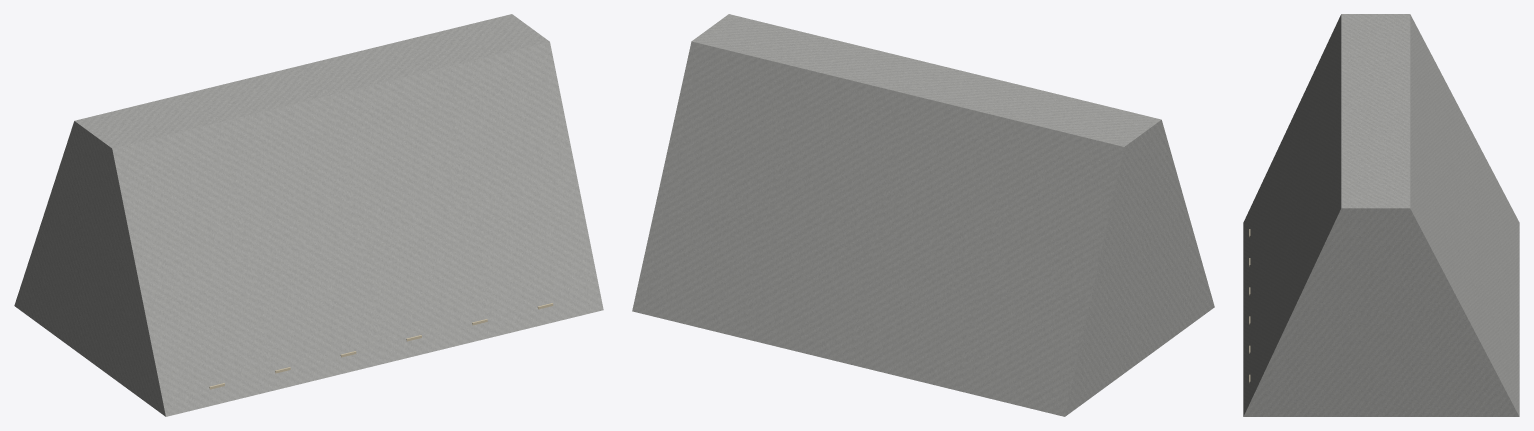
Rendered from fps-weapon-set-and-firing-range-earth-berm-e0cbf1cc__19504.glb.
3 renders of one model, left to right at view 1: azimuth 30°, elevation 25°; view 2: azimuth 150°, elevation 25°; view 3: azimuth 270°, elevation 25°, orthographic. The views are drawn at different scales.
Visible parts, largest first — view 1: earth-berm; view 2: earth-berm; view 3: earth-berm.
Boxes of the visible parts, x1=… form: earth-berm: x1=14, y1=14, x2=603, y2=416; earth-berm: x1=632, y1=14, x2=1214, y2=416; earth-berm: x1=1243, y1=14, x2=1519, y2=416.
Size of the model in its own units: 4 by 2 by 2.4.
2 materials, 1 textured.
